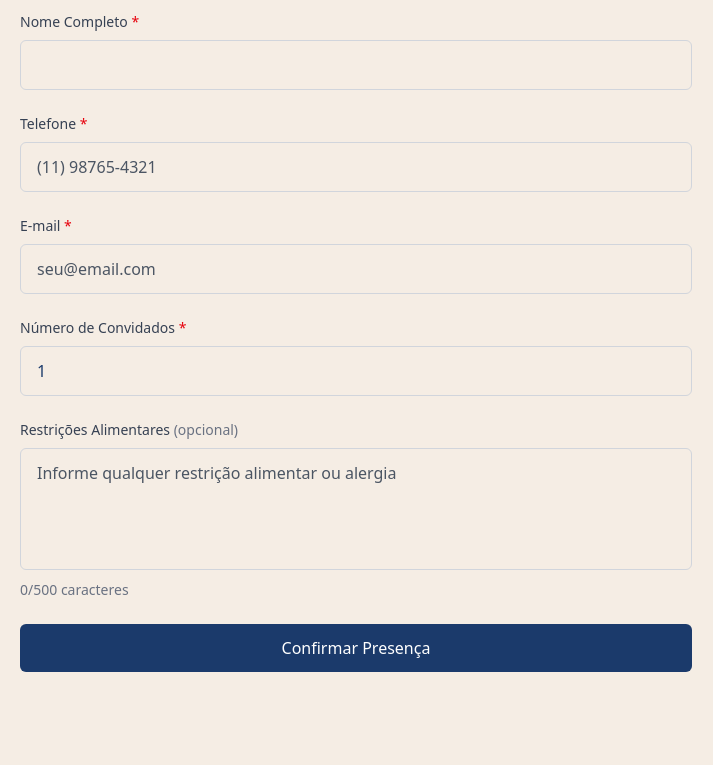
Test: RSVP Form - full submission flow › shows validation errors when submitting empty form
The width and height of the screenshot is (713, 765).
Click the button "Confirmar Presença".
click(356, 648)  # box top-left (20, 624), bottom-right (692, 672)
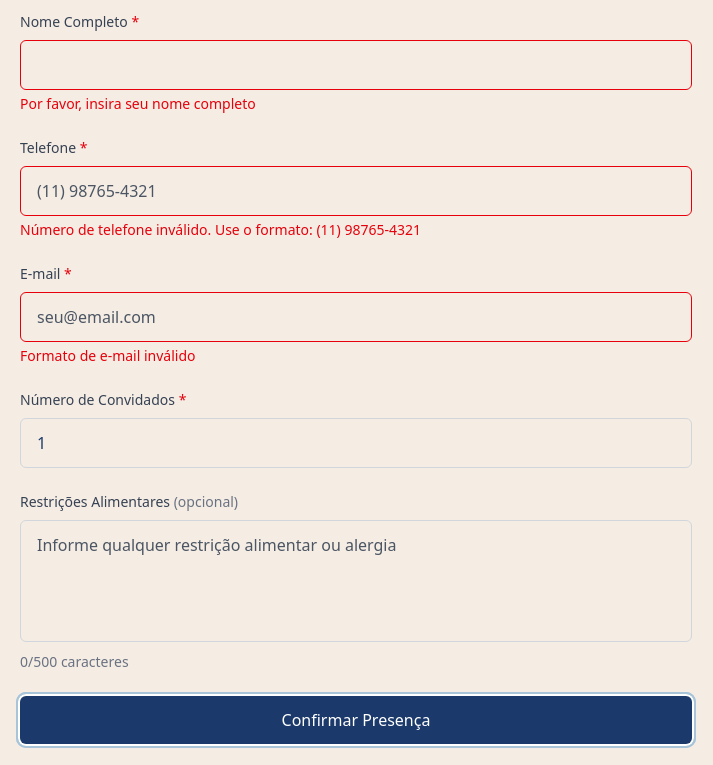
Expected: the text "Por favor, insira seu nome completo" is shown, top-left (20, 94), bottom-right (256, 113)
Expected: the text "Número de telefone inválido. Use o formato: (11) 98765-4321" is shown, top-left (20, 220), bottom-right (421, 239)
Expected: the text "Formato de e-mail inválido" is shown, top-left (20, 346), bottom-right (196, 365)
